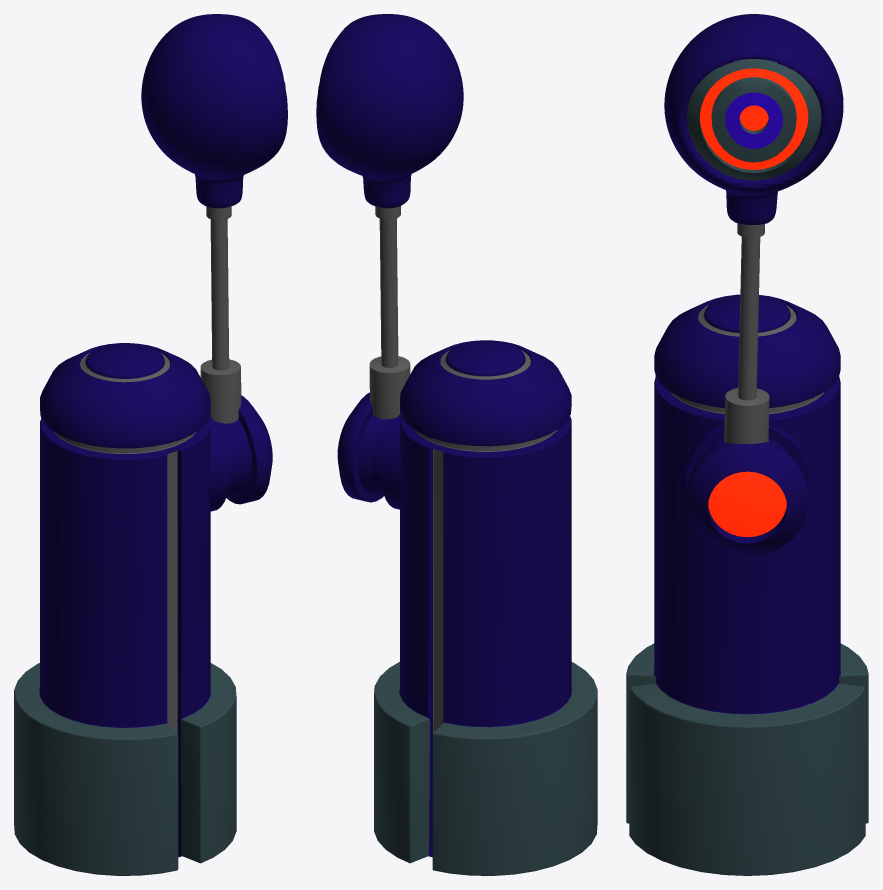
The model's file is checkpoint.fbx.
3 renders of one model, left to right at view 1: azimuth 30°, elevation 25°; view 2: azimuth 150°, elevation 25°; view 3: azimuth 270°, elevation 25°, orthographic. The views are drawn at different scales.
Parts seen in each view (by area): view 1: Cylinder.003, Cylinder.001; view 2: Cylinder.003, Cylinder.001; view 3: Cylinder.003, Cylinder.001.
Part boxes in pixels (x1,y1,x2,y2): Cylinder.003: (14,343,238,875); Cylinder.001: (141,14,287,504); Cylinder.003: (372,340,597,875); Cylinder.001: (316,14,463,502); Cylinder.003: (626,294,868,875); Cylinder.001: (664,14,843,556).
Bounding box in the file's own units: 324 × 1010 × 260.
